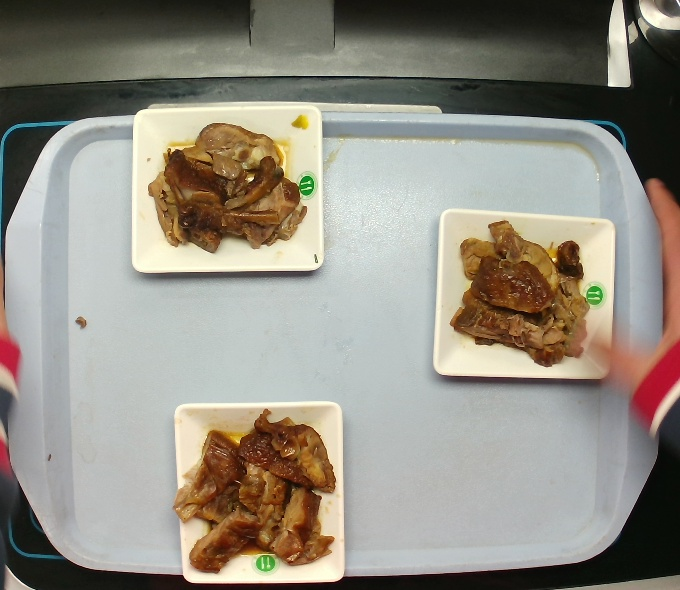wcq-YaRou: (439, 212, 613, 368), (144, 107, 317, 263), (176, 408, 334, 574)
